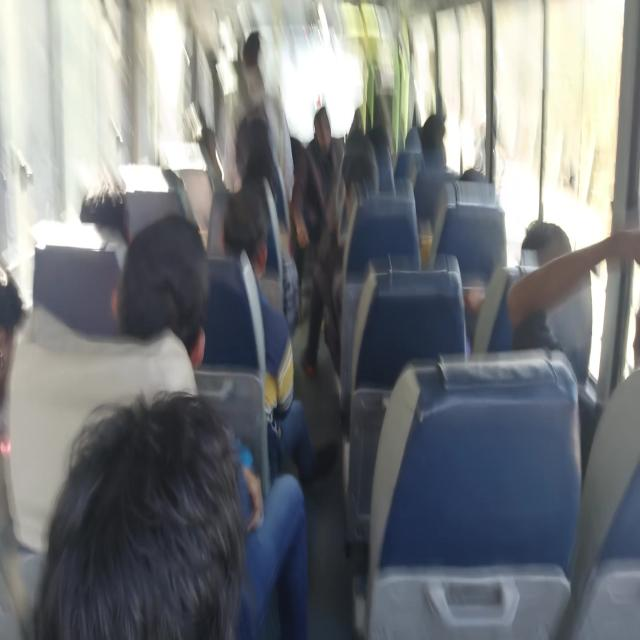person: (74, 385, 232, 640), (119, 206, 264, 423), (570, 218, 640, 398), (232, 30, 290, 105), (221, 191, 266, 268), (75, 177, 128, 236), (341, 159, 387, 223), (0, 251, 26, 358), (340, 137, 396, 186), (516, 222, 563, 266), (242, 155, 296, 190), (306, 112, 344, 151), (176, 104, 211, 146), (144, 153, 178, 195), (426, 108, 457, 149), (251, 124, 288, 157), (449, 161, 482, 195), (360, 126, 393, 148)
